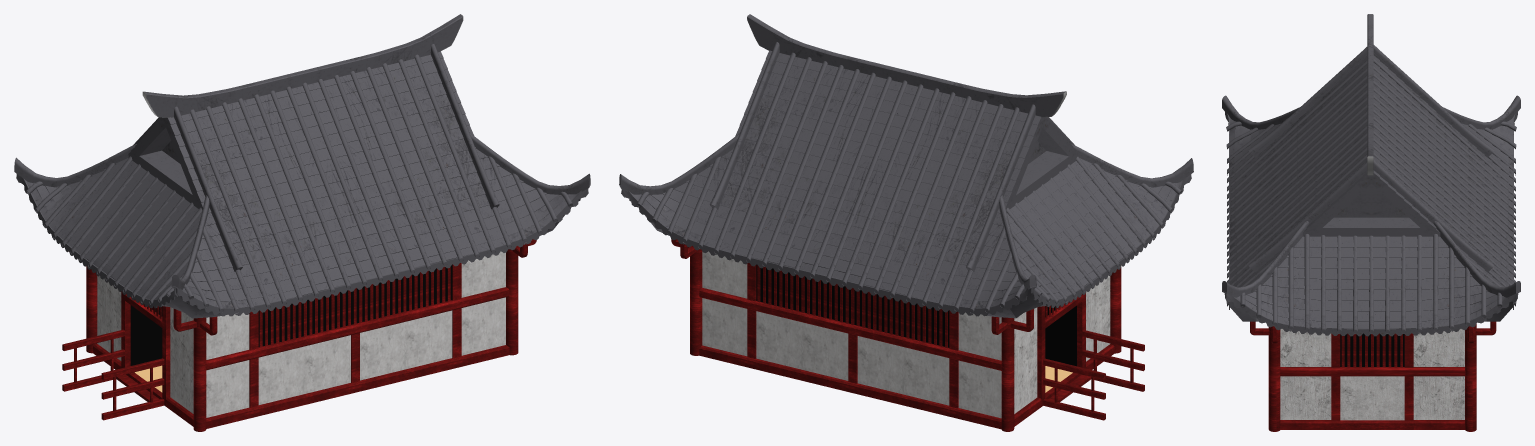
The model's file is TraditionalJapaneseHouse.fbx.
3 views of the same model, side by side, from view 1: azimuth 30°, elevation 25°; view 2: azimuth 150°, elevation 25°; view 3: azimuth 270°, elevation 25° (orthographic). The views are drawn at different scales.
Visible parts, largest first — view 1: Roof, House_Parts, Roof_Pipes; view 2: Roof, House_Parts, Roof_Pipes; view 3: Roof, Roof_Pipes, House_Parts.
Boxes of the visible parts, x1,y1,x2,y2 form: Roof: (16,14,588,318); House_Parts: (62,239,536,431); Roof_Pipes: (14,44,590,315); Roof: (621,14,1191,318); House_Parts: (671,239,1144,431); Roof_Pipes: (619,42,1193,314); Roof: (1224,14,1518,336); Roof_Pipes: (1222,45,1520,333); House_Parts: (1250,321,1496,431).
Size of the model in its own units: 1505 by 1003 by 990.
3 materials, 3 textured.
